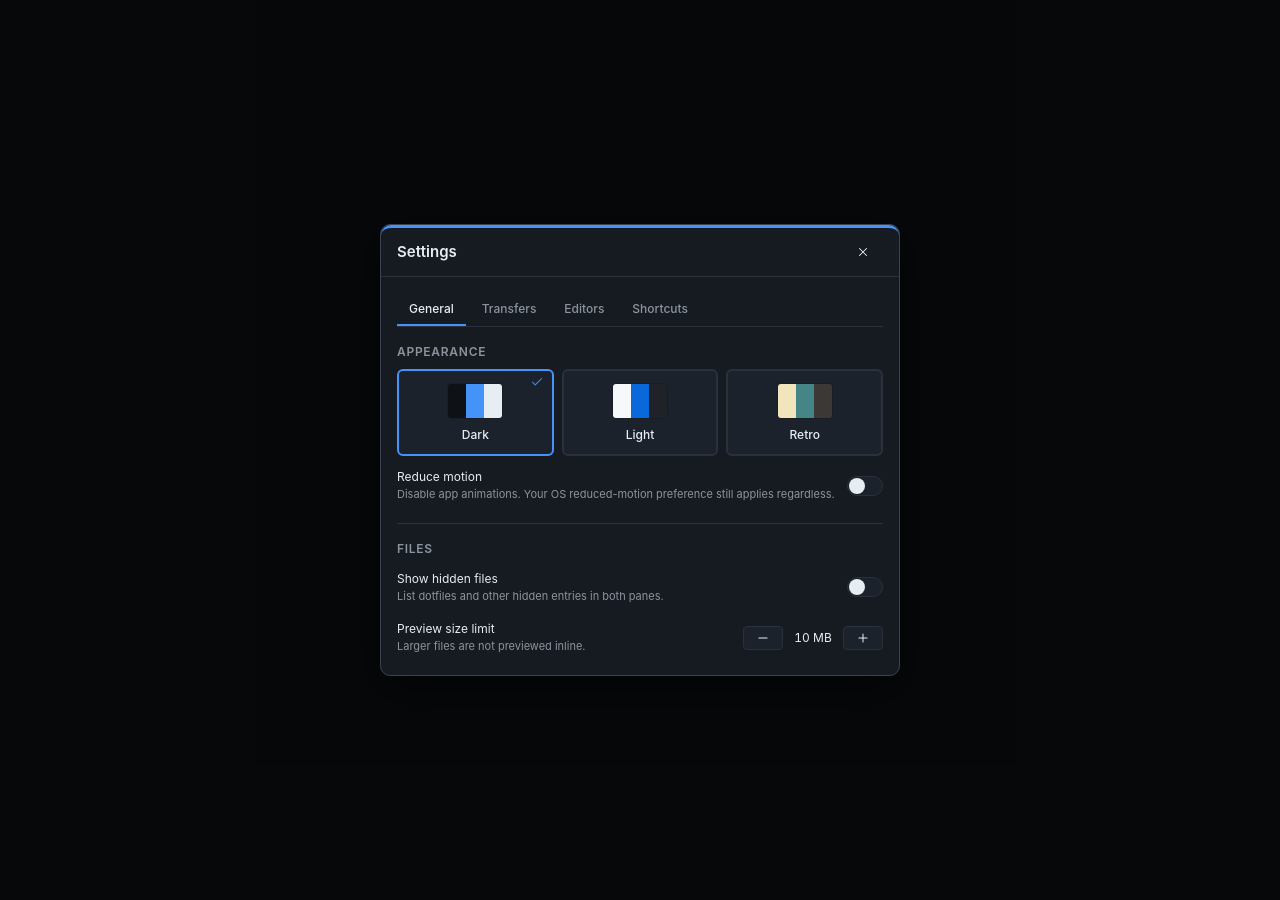
Test: SettingsModal — Shortcuts tab › refuses an alias of another action too
Click the tab "Shortcuts".
click(660, 310)  # box [620,293,700,326]
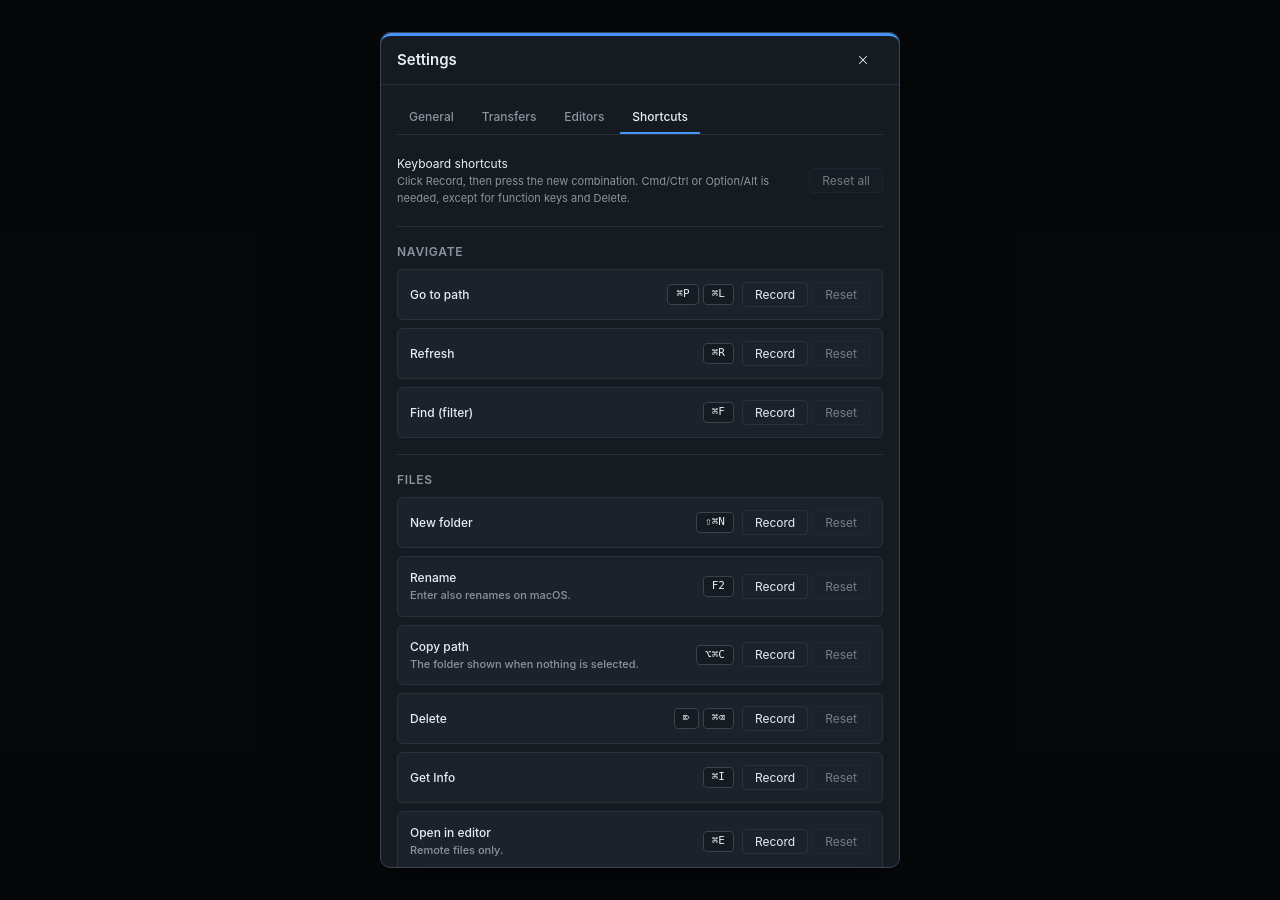
Click the button with aria-label "Record shortcut".
click(775, 354)  # box [742,341,808,366]
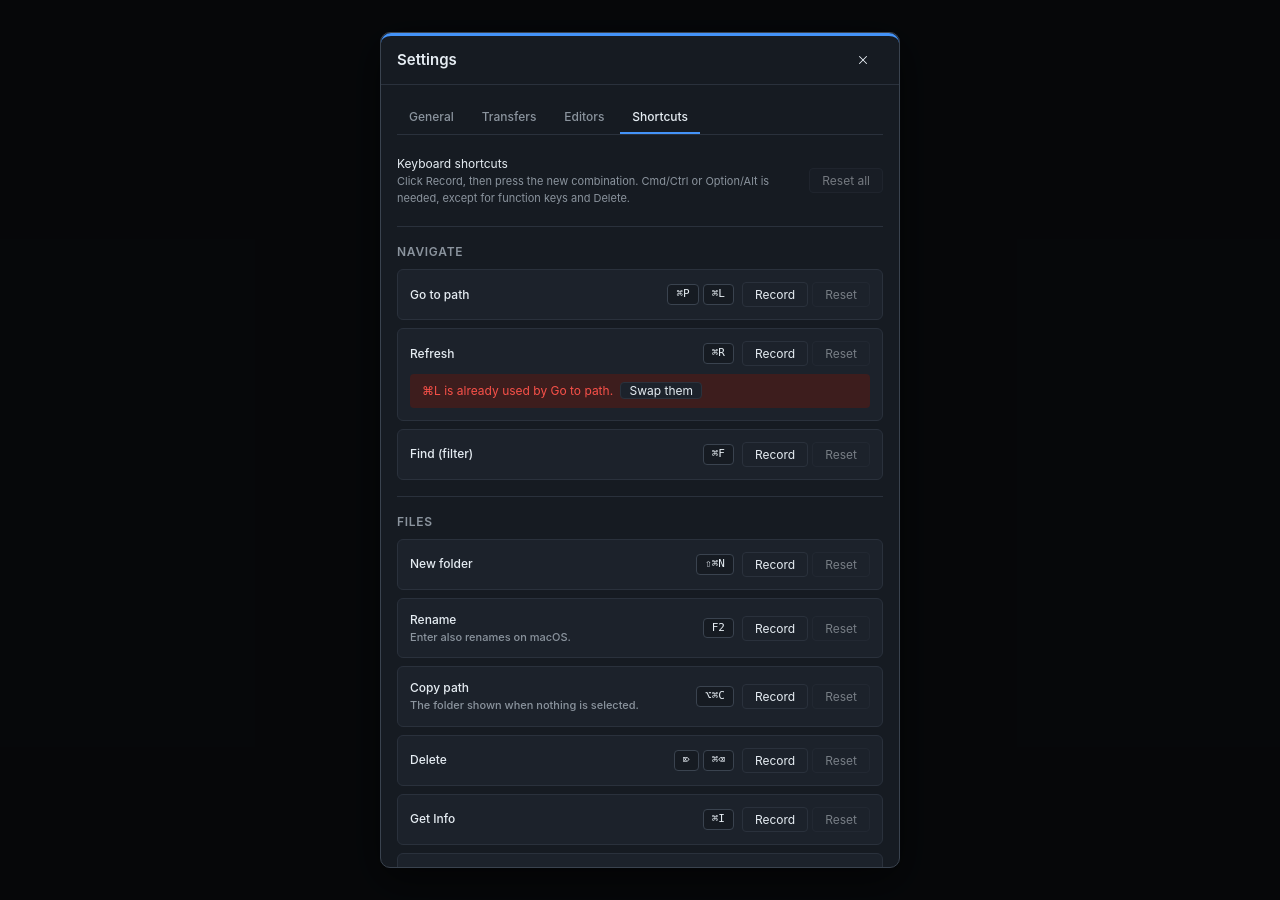
Expected: the message shows "⌘L is already used by Go to path.", [422,383,613,398]
